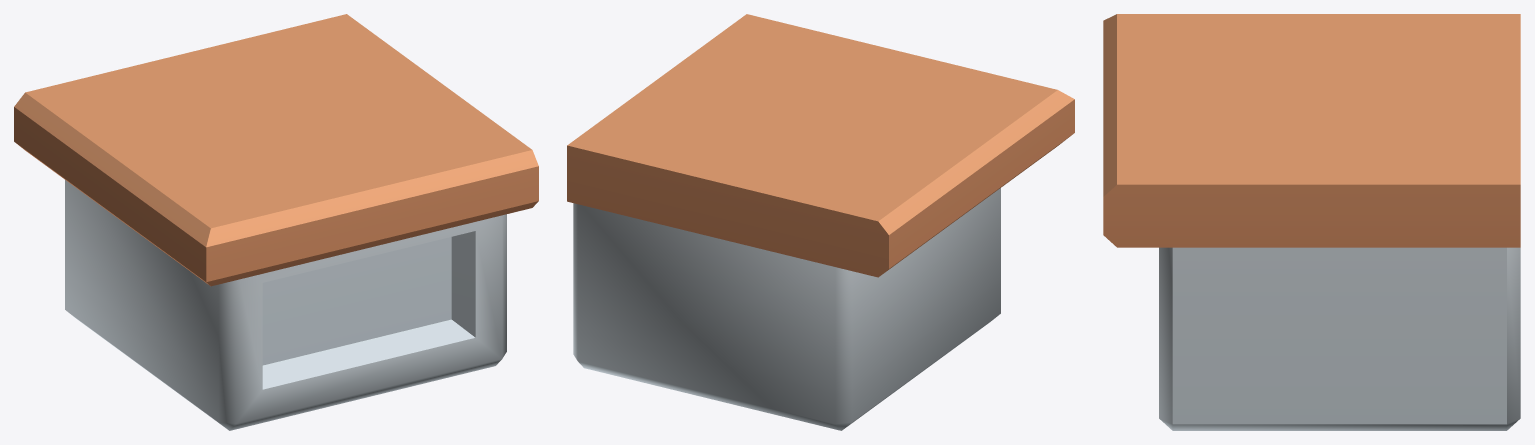
Rendered from countertop-counter-outer.glb.
The picture shows the model from 3 angles, left to right: view 1: azimuth 30°, elevation 25°; view 2: azimuth 150°, elevation 25°; view 3: azimuth 270°, elevation 25°; orthographic projection. The views are drawn at different scales.
Visible parts, largest first — view 1: countertop_counter_outer; view 2: countertop_counter_outer; view 3: countertop_counter_outer.
Boxes of the visible parts, x1=… form: countertop_counter_outer: x1=14, y1=14, x2=538, y2=430; countertop_counter_outer: x1=567, y1=14, x2=1074, y2=430; countertop_counter_outer: x1=1103, y1=14, x2=1520, y2=430.
Bounding box in the file's own units: 1.5 × 1 × 1.5.
Materials: 1 (1 with a texture image).
